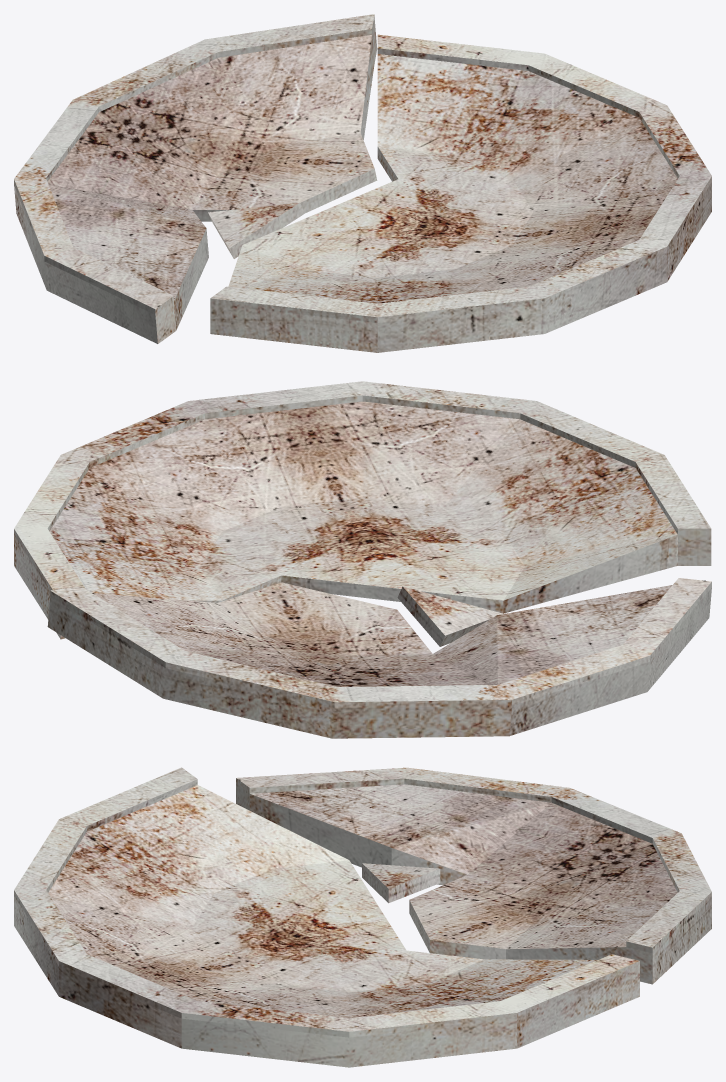
File: BrokenPlate1.fbx
3 renders of one model, top to bottom at view 1: azimuth 30°, elevation 25°; view 2: azimuth 150°, elevation 25°; view 3: azimuth 270°, elevation 25°, orthographic. The views are drawn at different scales.
Parts seen in each view (by area): view 1: BrokenPlate1; view 2: BrokenPlate1; view 3: BrokenPlate1.
Boxes of the visible parts, left/top/right/bottom form: BrokenPlate1: left=14, top=14, right=711, bottom=352; BrokenPlate1: left=14, top=381, right=711, bottom=738; BrokenPlate1: left=14, top=767, right=711, bottom=1067.
Size of the model in its own units: 7.9 by 0.9791 by 8.02.
